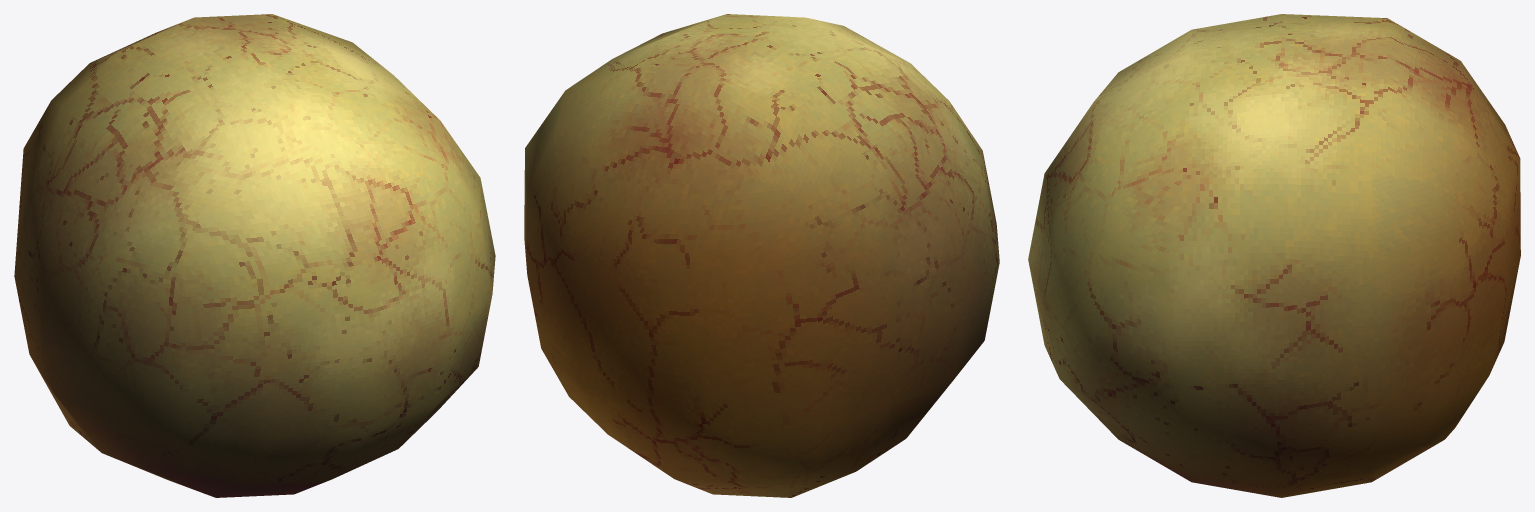
The model's file is Orb.glb.
The picture shows the model from 3 angles, left to right: view 1: azimuth 30°, elevation 25°; view 2: azimuth 150°, elevation 25°; view 3: azimuth 270°, elevation 25°; orthographic projection. The views are drawn at different scales.
Visible parts, largest first — view 1: Cube; view 2: Cube; view 3: Cube.
Part boxes in pixels (x1=…): Cube: x1=14, y1=14, x2=495, y2=497; Cube: x1=524, y1=14, x2=999, y2=497; Cube: x1=1028, y1=14, x2=1520, y2=497.
Size of the model in its own units: 1.7 by 1.68 by 1.73.
1 material, 1 textured.
